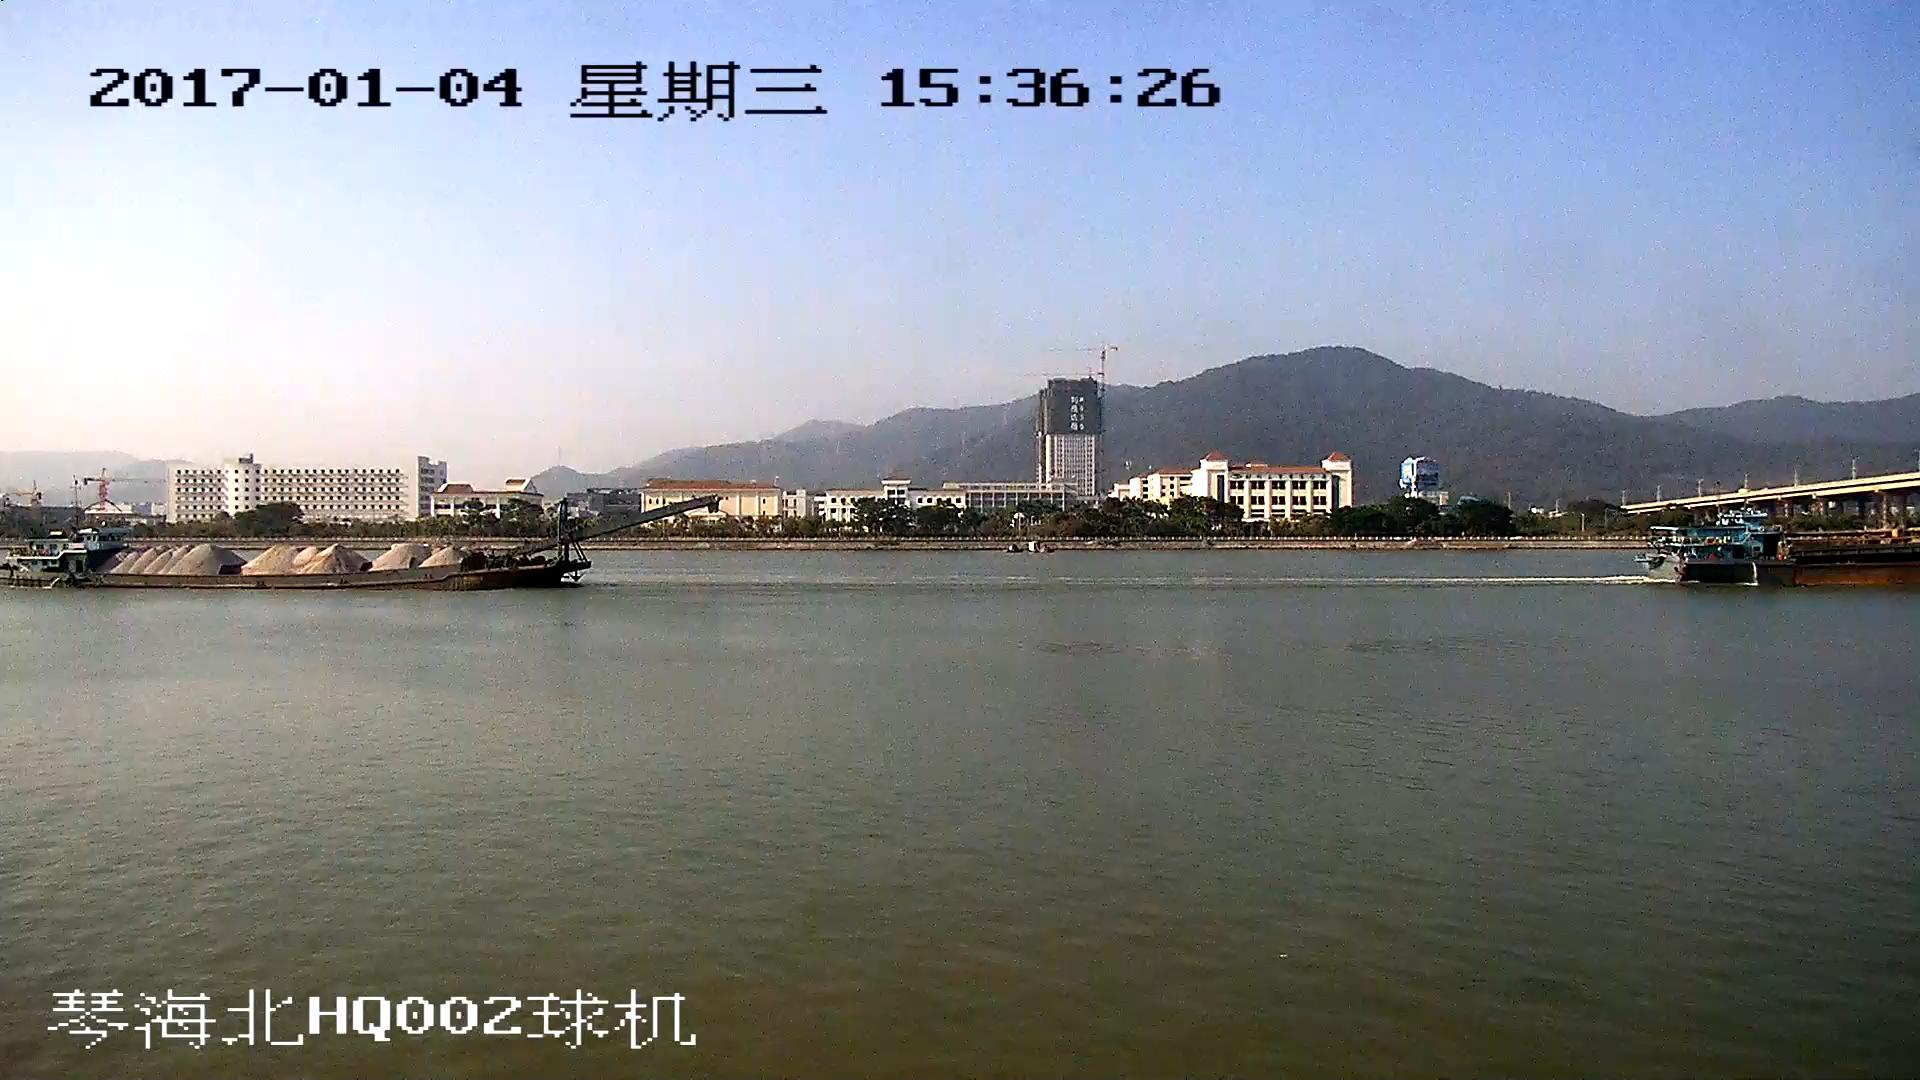bulk cargo carrier: (1646, 524, 1920, 584)
ore carrier: (1, 498, 711, 593)
